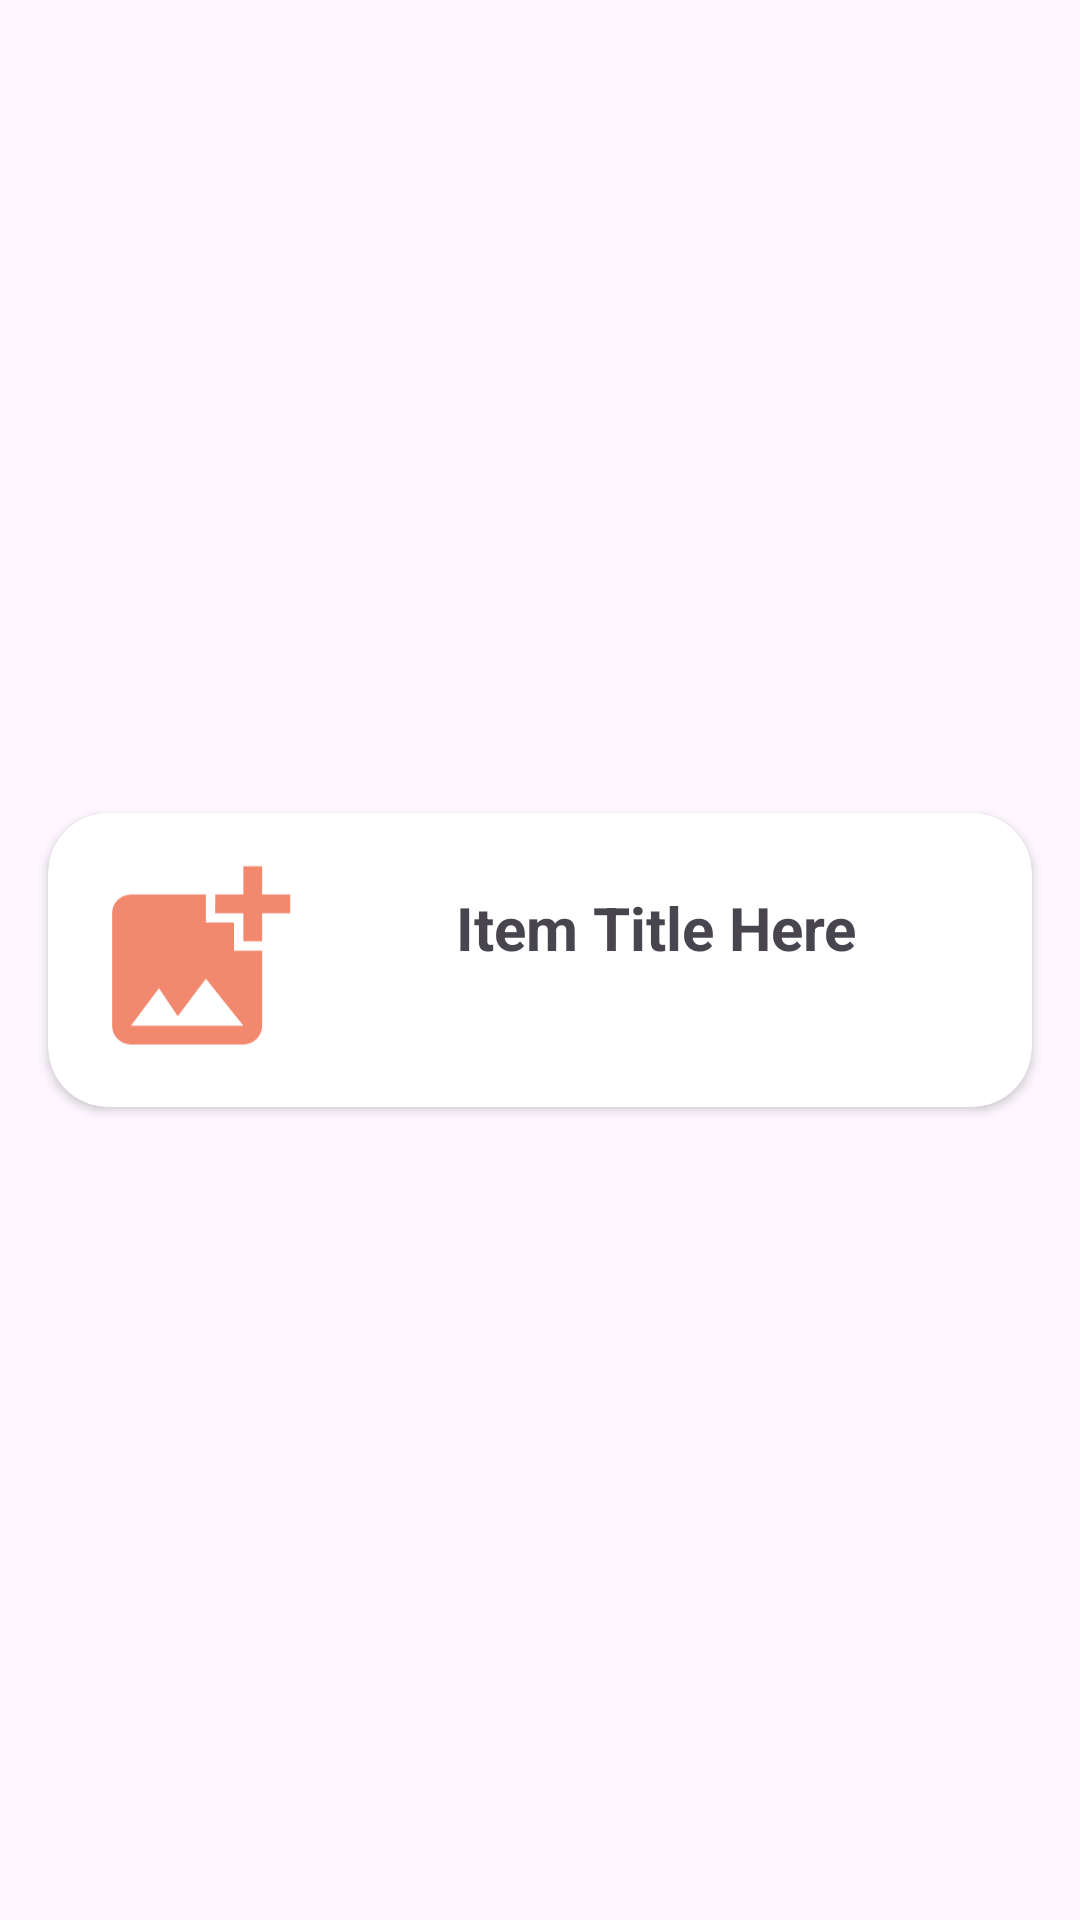

Locate icon controls on the screen. Image size 1080x1920, boxes as [left=x1, top=y1, right=x2, bottom=y2].
add photo alternate: [left=112, top=866, right=291, bottom=1045]
